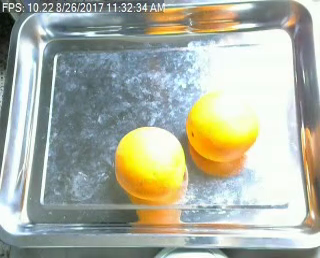Orange: (115, 125, 185, 200), (185, 93, 258, 163)
